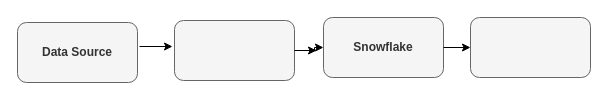
This 608x100 diagram has some shape labels left out. The shapes that lost their labels are listed below. From the top down, each one's centre as x and y in pixels, then its label:
At [234,50]: "Streaming Data (Processed uisng python)".
At [530,47]: "Table: rates_sample".
